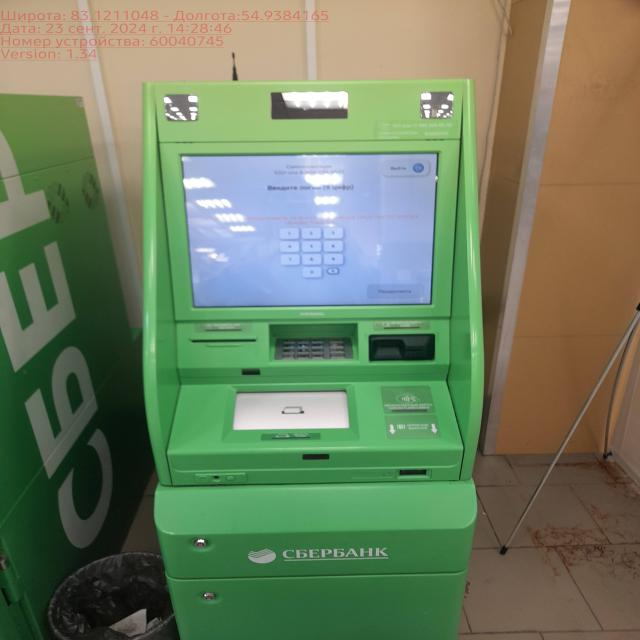bank: (136, 80, 486, 640), (0, 95, 148, 640)
